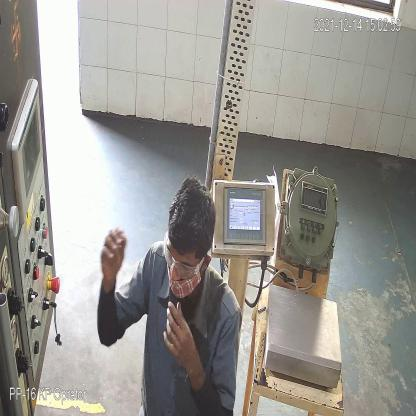goggles: (161, 238, 202, 278)
